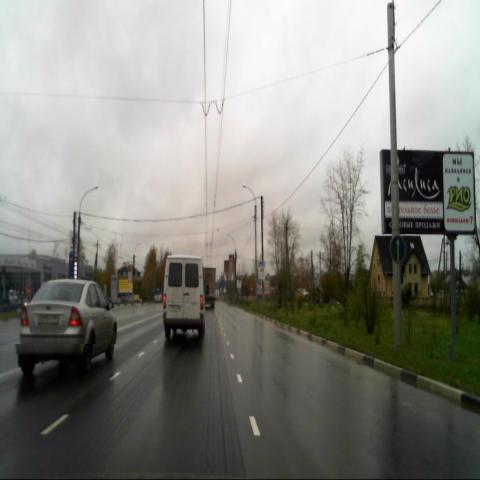4_1_1: (388, 233, 406, 264)
